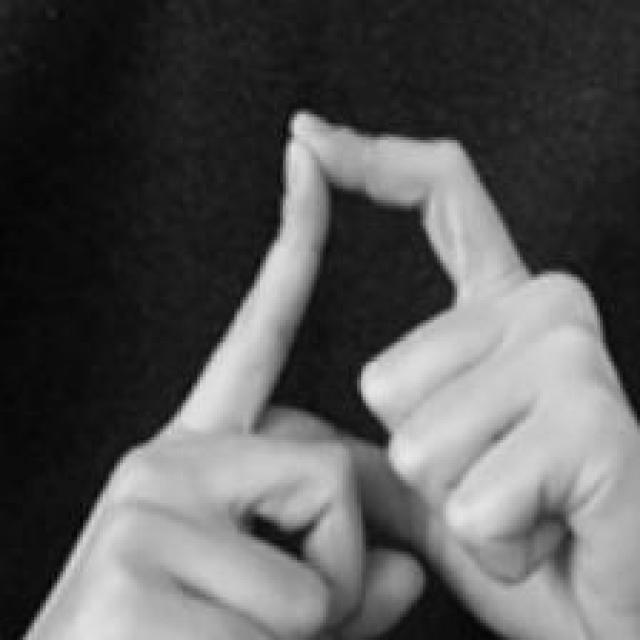D: (33, 107, 640, 640)
